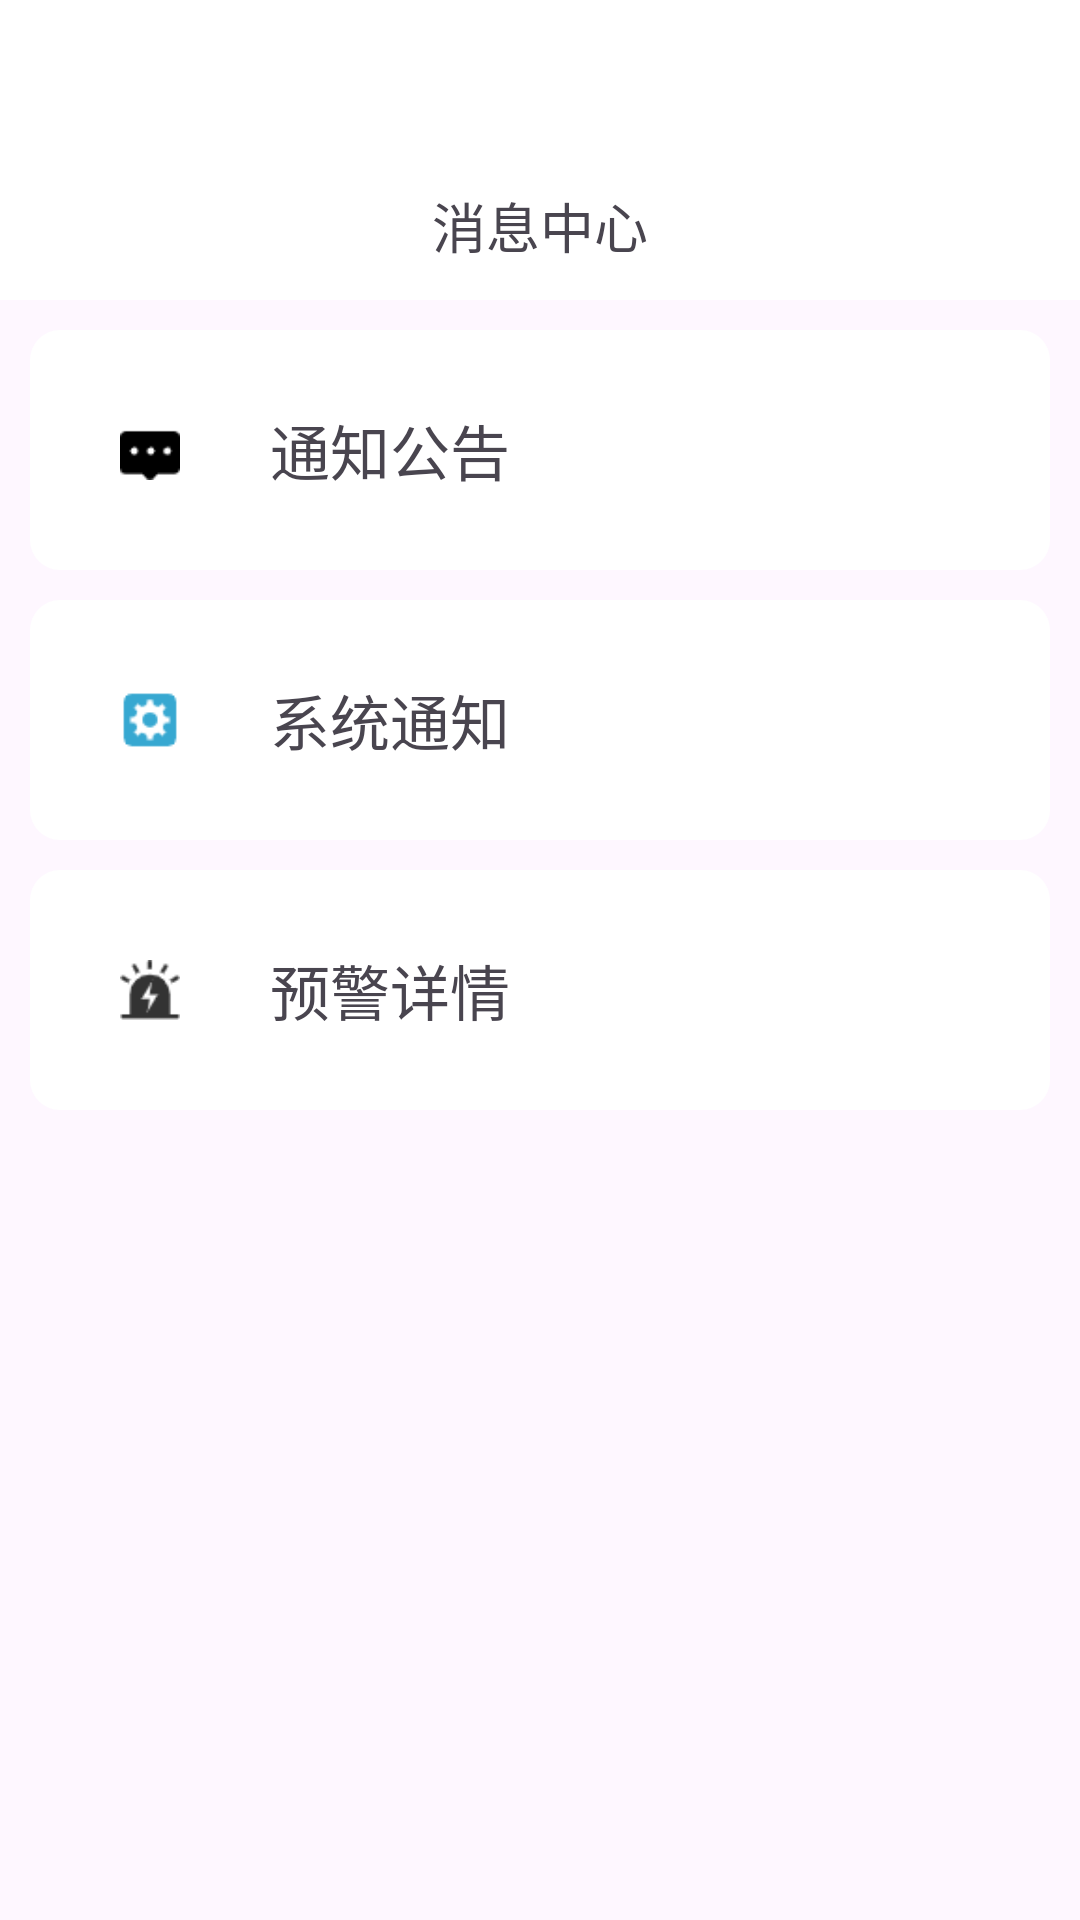

Where icons sit on this 1080px x 1920px app screen, as (x1, y1, x2, y2):
message setting: (123, 693, 177, 747)
